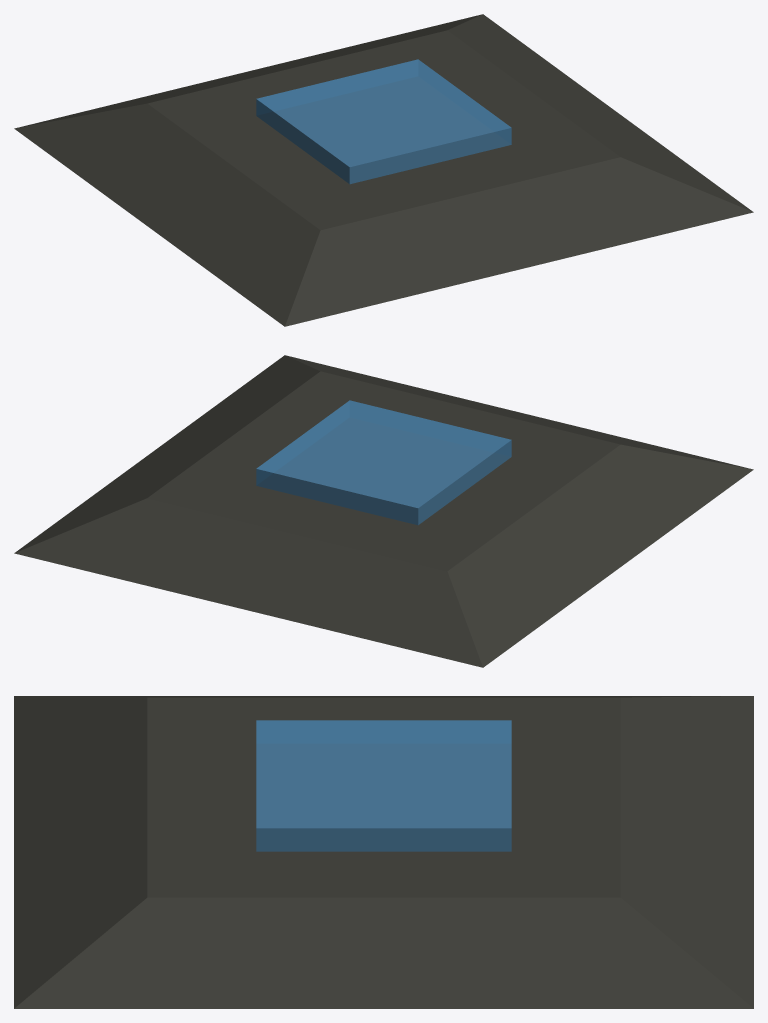
The model's file is buttonAnimated.fbx.
The picture shows the model from 3 angles, top to bottom: view 1: azimuth 30°, elevation 25°; view 2: azimuth 150°, elevation 25°; view 3: azimuth 270°, elevation 25°; orthographic projection. The views are drawn at different scales.
Visible parts, largest first — view 1: Platform, Button; view 2: Platform, Button; view 3: Platform, Button.
Part boxes in pixels (<box>): Platform: <box>14,14,753,326</box>; Button: <box>256,59,511,184</box>; Platform: <box>14,355,753,667</box>; Button: <box>256,400,511,525</box>; Platform: <box>14,696,753,1008</box>; Button: <box>256,720,511,851</box>.
Bounding box in the file's own units: 6 × 0.6988 × 6.
